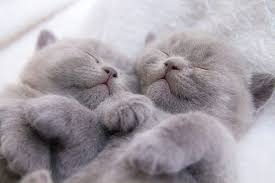cat: (140, 24, 275, 133), (32, 24, 138, 113)
